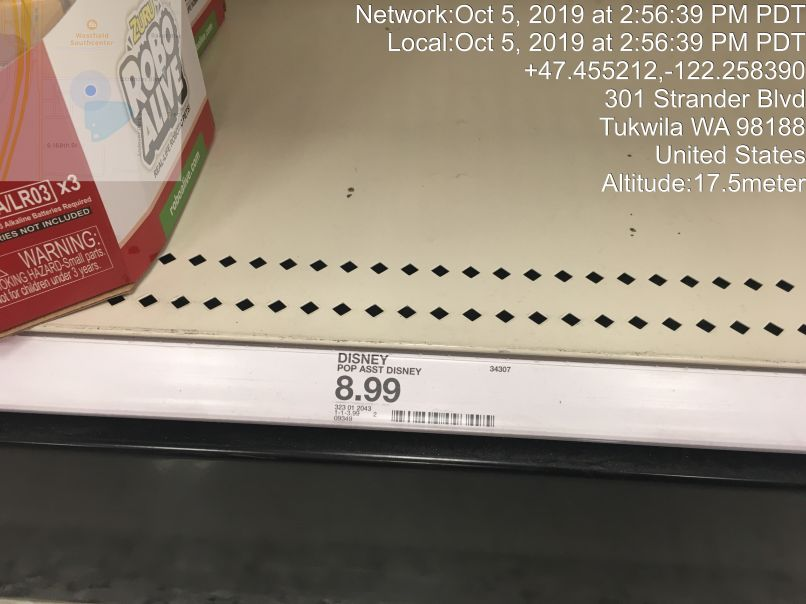Label: (322, 347, 530, 439)
Location: (592, 85, 805, 172)
Time: (354, 3, 806, 56)
Void: (234, 26, 596, 314)
